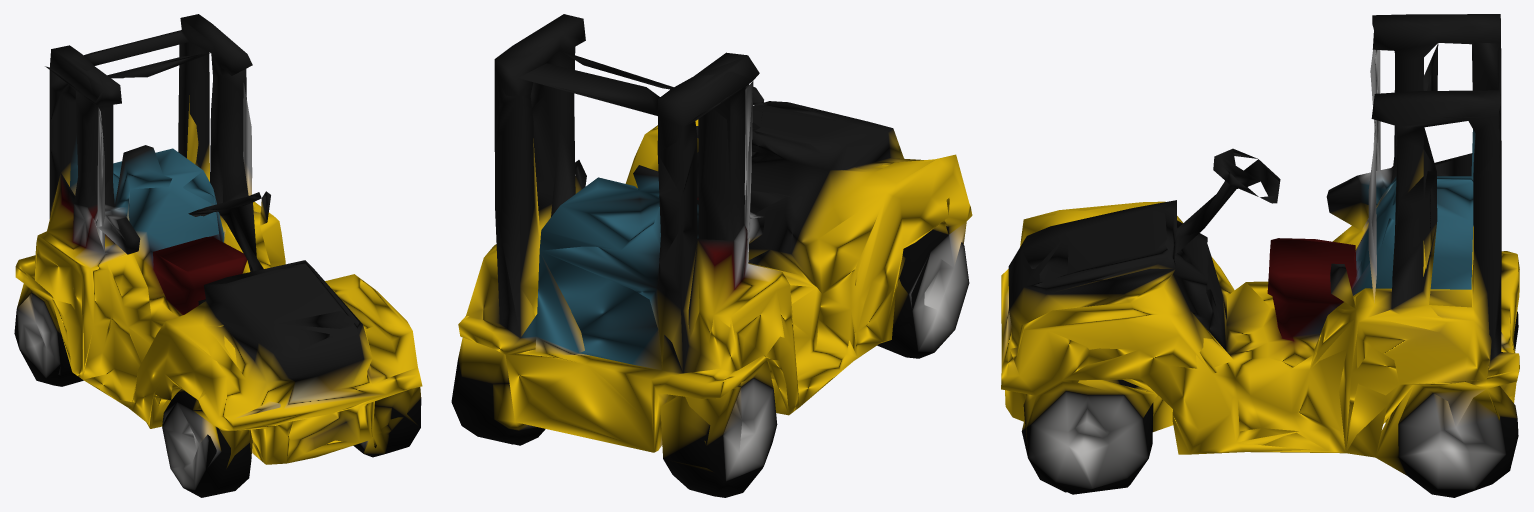
The model's file is gen3d-forklift-lod0.glb.
3 renders of one model, left to right at view 1: azimuth 30°, elevation 25°; view 2: azimuth 150°, elevation 25°; view 3: azimuth 270°, elevation 25°, orthographic. The views are drawn at different scales.
Parts seen in each view (by area): view 1: part_0; view 2: part_0; view 3: part_0.
Part boxes in pixels (<box>): part_0: <box>14,14,422,497</box>; part_0: <box>451,14,972,497</box>; part_0: <box>1001,14,1519,497</box>.
Bounding box in the file's own units: 0.7144 × 0.9972 × 1.22.
